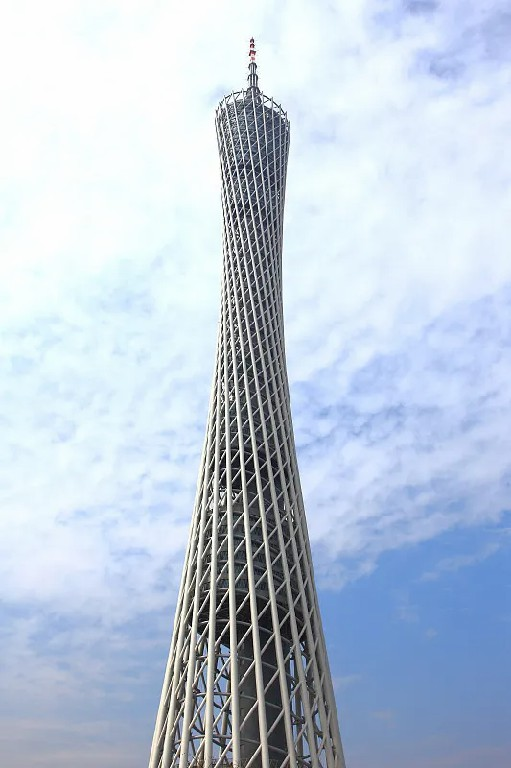Canton: (150, 34, 351, 768)
